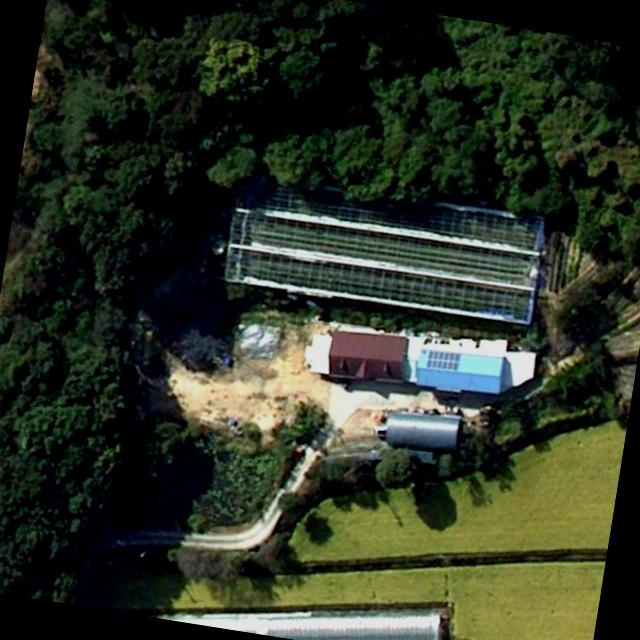solar: (424, 348, 464, 375)
